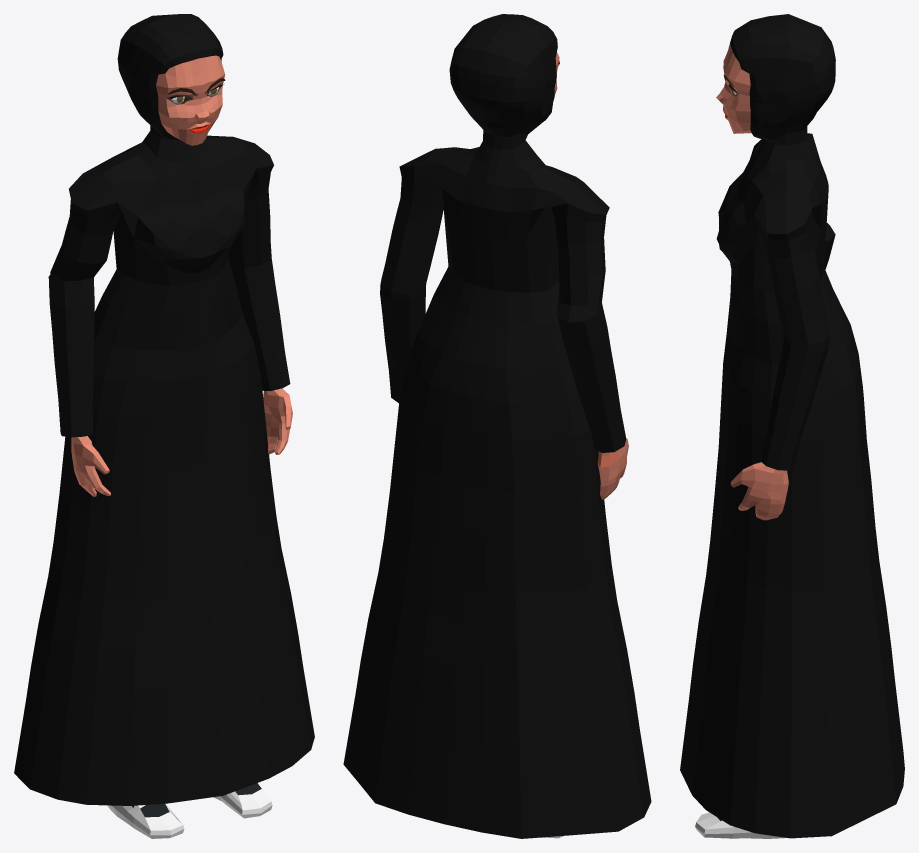
Rendered from TeacherFemale_Stand.fbx.
The picture shows the model from 3 angles, left to right: view 1: azimuth 30°, elevation 25°; view 2: azimuth 150°, elevation 25°; view 3: azimuth 270°, elevation 25°; orthographic projection. The views are drawn at different scales.
Visible parts, largest first — view 1: TeacherFemale_Stand; view 2: TeacherFemale_Stand; view 3: TeacherFemale_Stand.
Boxes of the visible parts, box(x1,y1,x2,y2) form: TeacherFemale_Stand: box(14, 14, 314, 838); TeacherFemale_Stand: box(343, 14, 651, 838); TeacherFemale_Stand: box(680, 14, 904, 838).
Size of the model in its own units: 0.3457 by 0.9253 by 0.2396.
